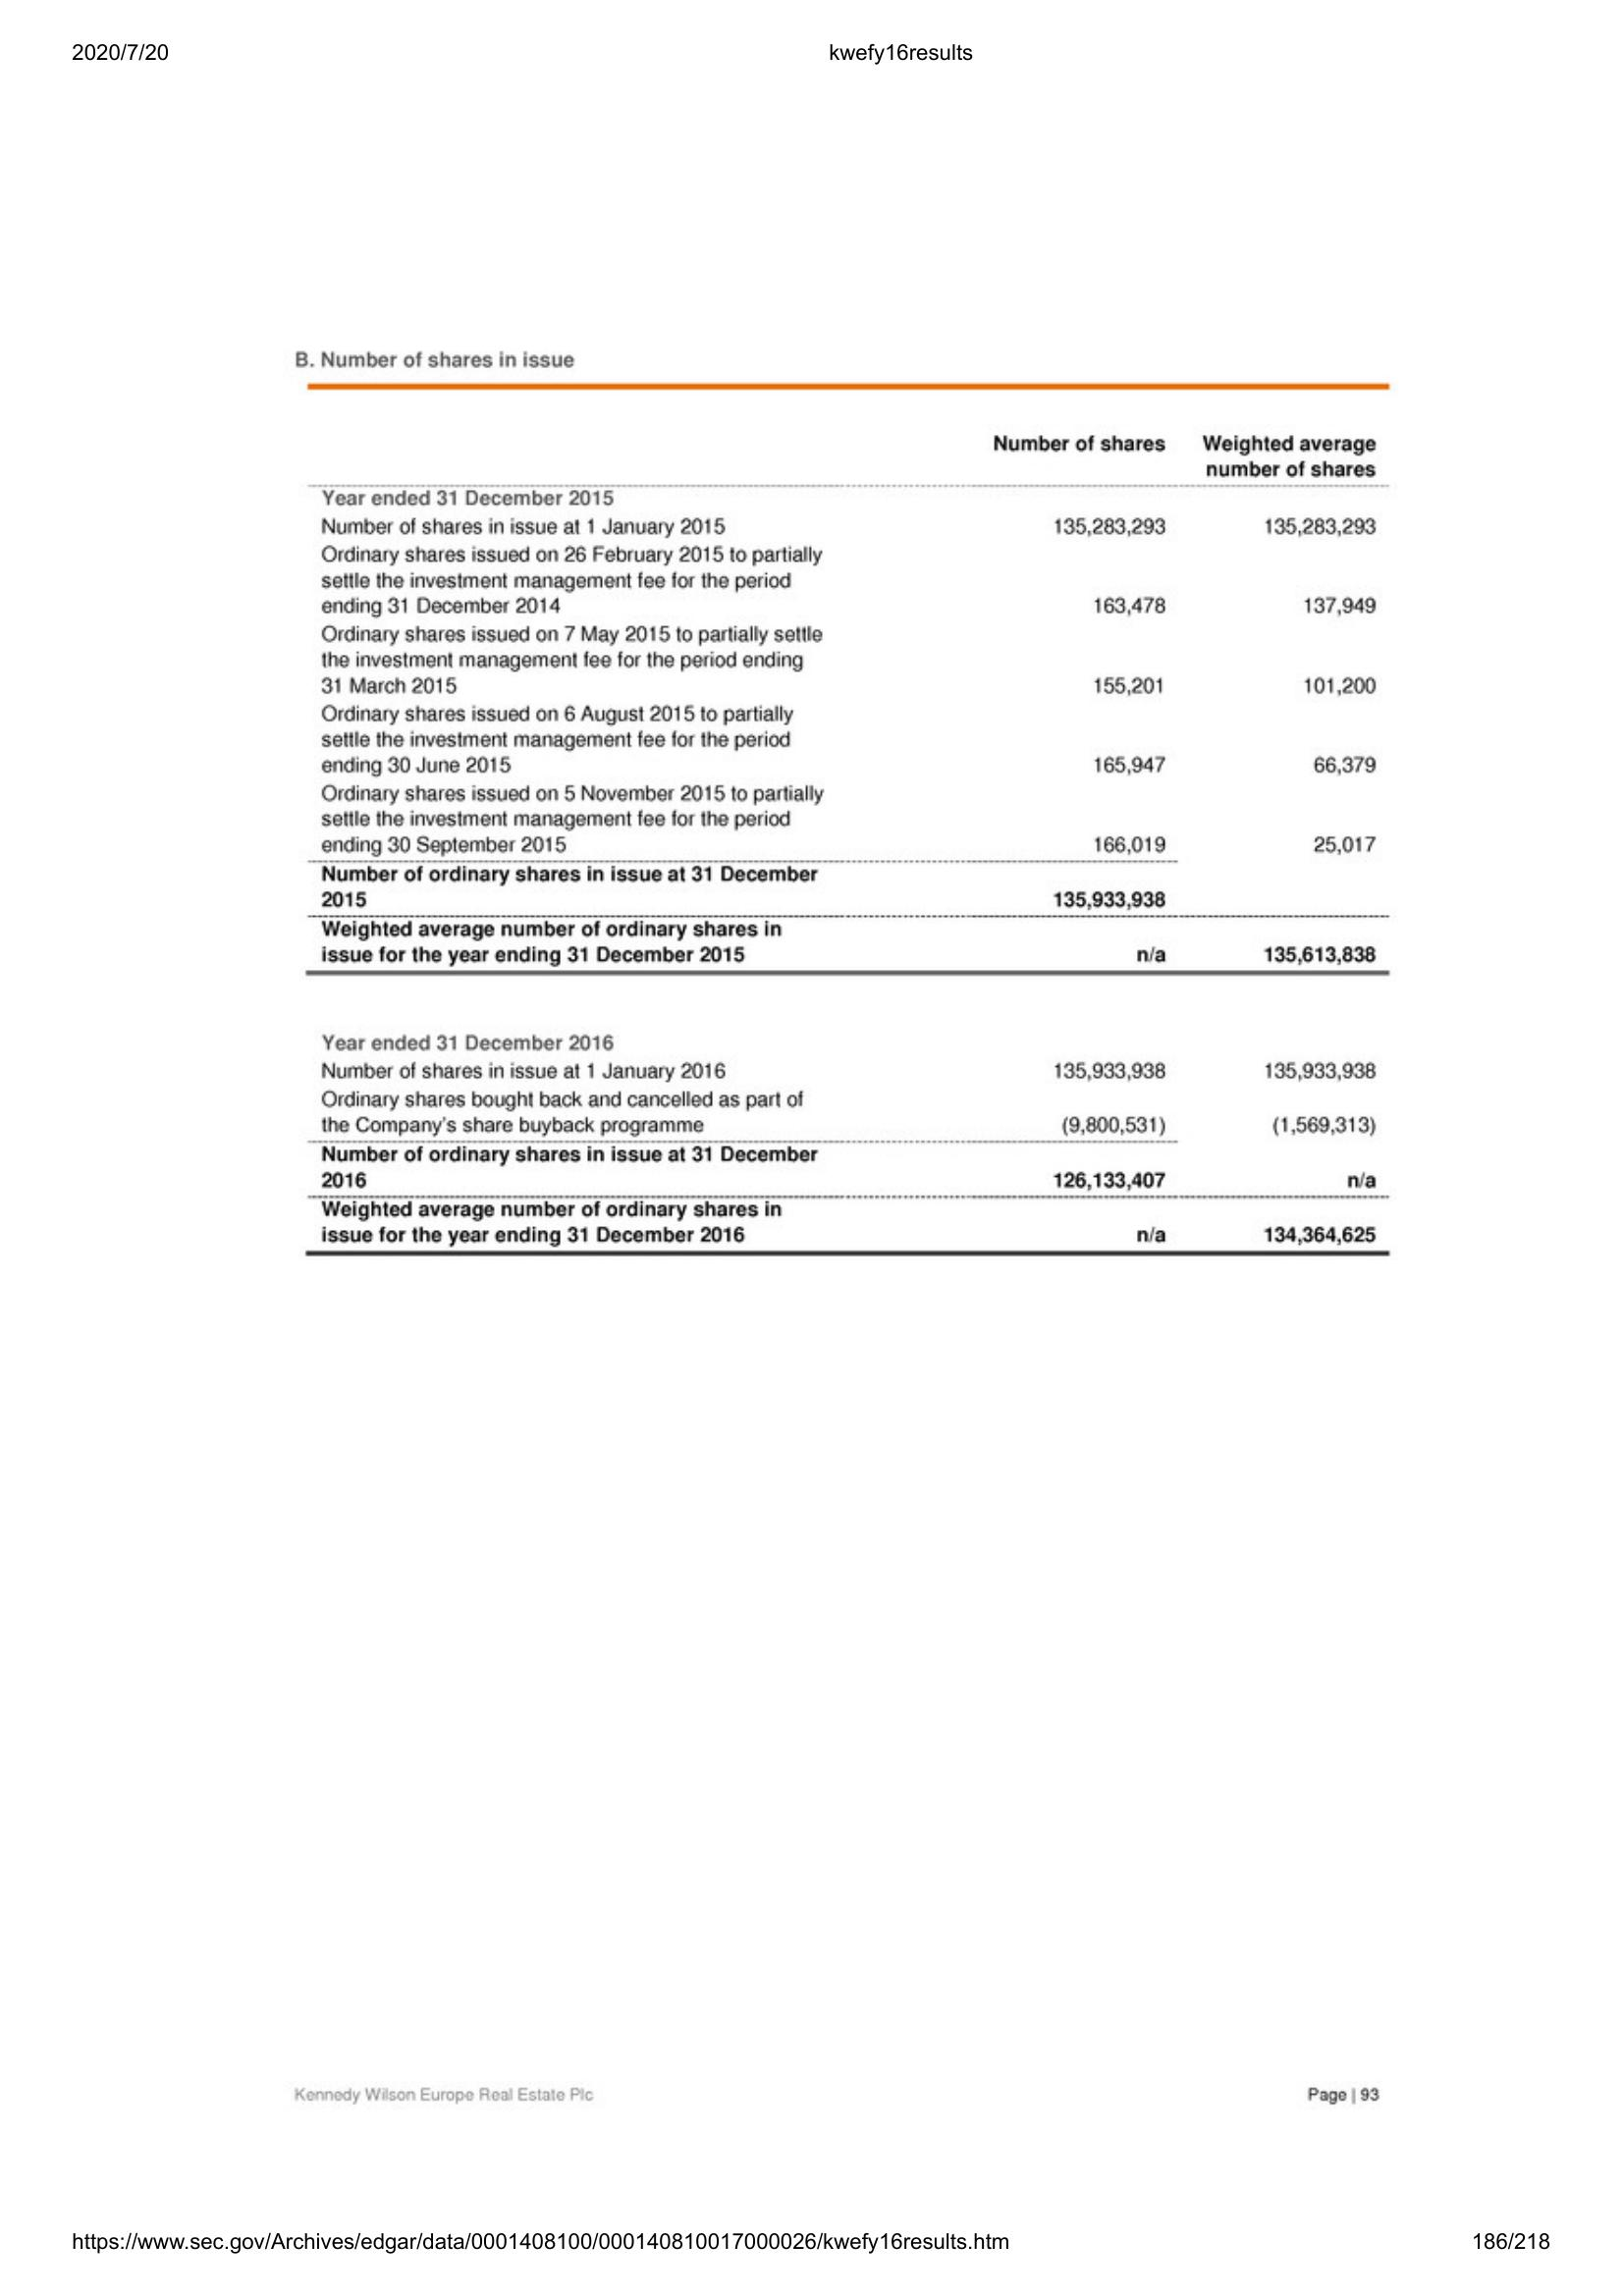table: (306, 377, 1400, 1266)
